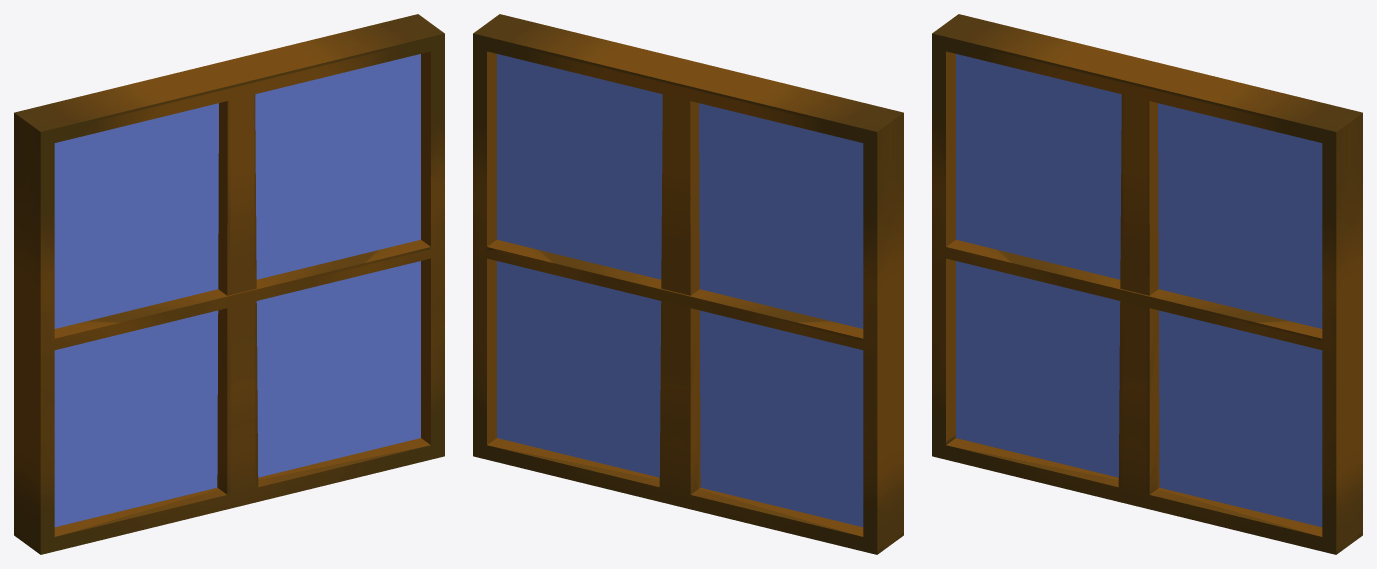
Rendered from Windows 1.glb.
The picture shows the model from 3 angles, left to right: view 1: azimuth 30°, elevation 25°; view 2: azimuth 150°, elevation 25°; view 3: azimuth 330°, elevation 25°; orthographic projection.
Parts seen in each view (by area): view 1: Cube; view 2: Cube; view 3: Cube.
Part boxes in pixels (x1,y1,x2,y2): Cube: [14, 14, 444, 554]; Cube: [473, 14, 903, 554]; Cube: [932, 14, 1362, 554].
Size of the model in its own units: 1.05 by 1.05 by 0.1196.
Materials: 2 (1 with a texture image).
